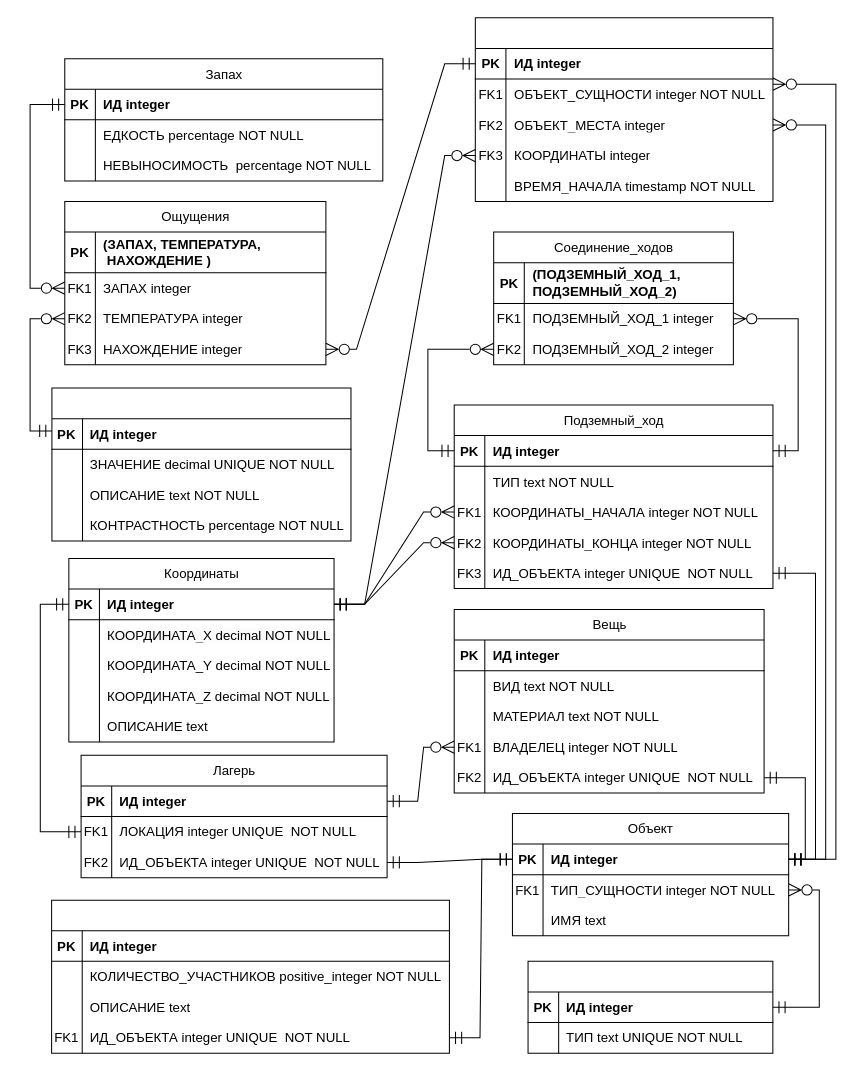
This 867x1071 diagram has some shape labels left out. Each missing label, with the box of its shape:
Группа_людей: (51, 899, 449, 1053)
Нахождение_сущности: (474, 17, 773, 201)
Температура: (51, 387, 351, 541)
Тип_сущностти: (527, 960, 773, 1053)
